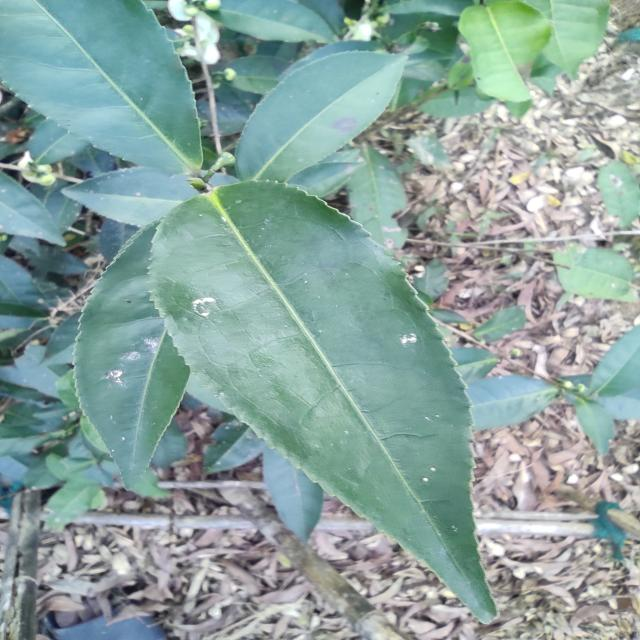Category D(7+ days, Not for Tea): (125, 182, 518, 630)
